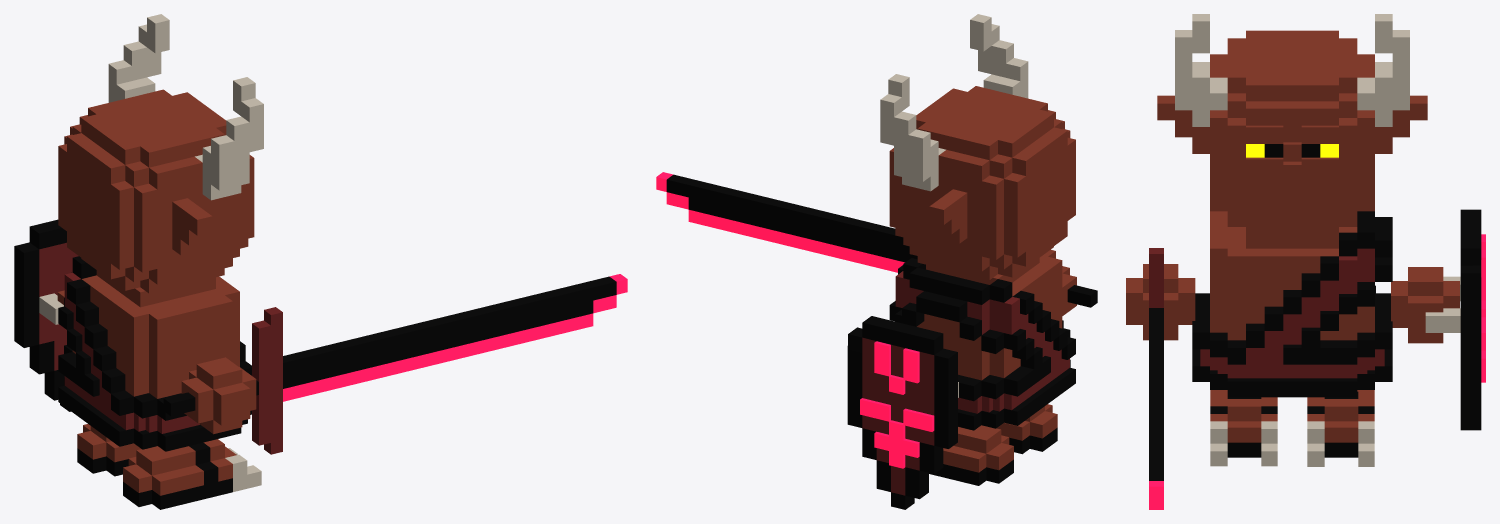
Rendered from Melee Demon.fbx.
3 views of the same model, side by side, from view 1: azimuth 30°, elevation 25°; view 2: azimuth 150°, elevation 25°; view 3: azimuth 270°, elevation 25° (orthographic). The views are drawn at different scales.
Parts seen in each view (by area): view 1: Head, Torso, Cube, Cube.001, FootRight, HandRight, FootLeft; view 2: Head, Torso, Cube.001, Cube, FootLeft, FootRight; view 3: Head, Torso, Cube.001, FootLeft, FootRight, Cube, HandLeft, HandRight.
Boxes of the visible parts, left/top/right/bottom form: Head: left=58, top=14, right=263, bottom=293; Torso: left=58, top=256, right=251, bottom=451; Cube: left=163, top=274, right=627, bottom=454; Cube.001: left=14, top=219, right=78, bottom=411; FootRight: left=123, top=439, right=261, bottom=509; HandRight: left=181, top=357, right=256, bottom=434; FootLeft: left=77, top=424, right=140, bottom=476; Head: left=880, top=14, right=1075, bottom=279; Torso: left=889, top=249, right=1075, bottom=430; Cube.001: left=847, top=316, right=958, bottom=509; Cube: left=656, top=172, right=1097, bottom=307; FootLeft: left=929, top=425, right=1013, bottom=485; FootRight: left=997, top=404, right=1057, bottom=454; Head: left=1157, top=14, right=1427, bottom=234; Torso: left=1192, top=211, right=1392, bottom=397; Cube.001: left=1425, top=209, right=1485, bottom=430; FootLeft: left=1307, top=390, right=1374, bottom=466; FootRight: left=1210, top=390, right=1277, bottom=466; Cube: left=1149, top=248, right=1163, bottom=509; HandLeft: left=1391, top=267, right=1459, bottom=343; HandRight: left=1126, top=264, right=1195, bottom=340.
Size of the model in its own units: 888 by 744 by 554.
